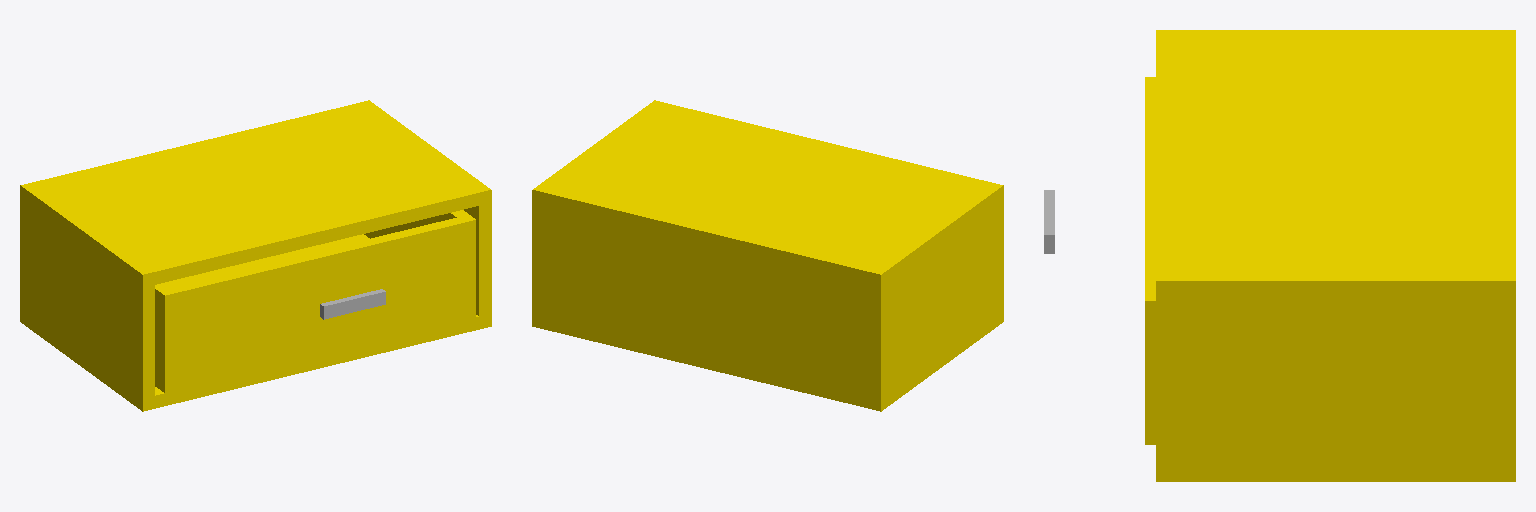
URDF robot description (drawer):
<?xml version="1.0" ?>
<!-- =================================================================================== -->
<!-- |    This document was autogenerated by xacro from drawer_xacro.xacro             | -->
<!-- |    EDITING THIS FILE BY HAND IS NOT RECOMMENDED                                 | -->
<!-- =================================================================================== -->
<robot name="drawer">
  <material name="yellow">
    <color rgba="1.0 0.9 0.0 1.0"/>
  </material>
  <link name="drawer1_in_drawer_base">
    <contact>
      <lateral_friction value="2.0"/>
    </contact>
    <inertial>
      <mass value="1"/>
      <inertia ixx="0.02086666666666667" ixy="0" ixz="0" iyy="0.007533333333333333" iyz="0" izz="0.007533333333333333"/>
    </inertial>
    <visual>
      <origin rpy="0.0 0.0 0.0" xyz="0.0 0.0 0.0"/>
      <geometry>
        <mesh filename="../../meshes/drawer/drawer1_in_drawer_base_visual.obj" scale="1 1 1"/>
      </geometry>
      <material name="yellow"/>
    </visual>
    <collision>
      <origin rpy="0.0 0.0 0.0" xyz="0.0 0.0 0.0"/>
      <geometry>
        <mesh filename="../../meshes/drawer/drawer1_in_drawer_base_visual.obj" scale="1 1 1"/>
      </geometry>
      <surface>
        <friction>
          <ode>
            <mu>0.5</mu>
          </ode>
        </friction>
      </surface>
    </collision>
  </link>
  <!--drawer_front-->
  <link name="drawer1_in_drawer_front">
    <inertial>
      <mass value="1"/>
      <inertia ixx="0.02224166666666667" ixy="0" ixz="0" iyy="0.0014416666666666668" iyz="0" izz="0.0014416666666666668"/>
    </inertial>
    <visual>
      <origin rpy="0.0 0.0 0.0" xyz="0.0 0.0 0.0"/>
      <geometry>
        <mesh filename="../../meshes/drawer/drawer1_in_drawer_front_visual.obj" scale="1 1 1"/>
      </geometry>
      <material name="yellow"/>
    </visual>
    <collision>
      <origin rpy="0.0 0.0 0.0" xyz="0.0 0.0 0.0"/>
      <geometry>
        <mesh filename="../../meshes/drawer/drawer1_in_drawer_front_visual.obj" scale="1 1 1"/>
      </geometry>
    </collision>
  </link>
  <joint name="drawer1_in_front2base" type="fixed">
    <origin rpy="0.0 0.0 0.0" xyz="0.13999999999999999 0.075 0.0"/>
    <parent link="drawer1_in_drawer_base"/>
    <child link="drawer1_in_drawer_front"/>
  </joint>
  <!--drawer_back-->
  <link name="drawer1_in_drawer_back">
    <inertial>
      <mass value="1"/>
      <inertia ixx="0.02224166666666667" ixy="0" ixz="0" iyy="0.0014416666666666668" iyz="0" izz="0.0014416666666666668"/>
    </inertial>
    <visual>
      <origin rpy="0.0 0.0 0.0" xyz="0.0 0.0 0.0"/>
      <geometry>
        <mesh filename="../../meshes/drawer/drawer1_in_drawer_back_visual.obj" scale="1 1 1"/>
      </geometry>
      <material name="yellow"/>
    </visual>
    <collision>
      <origin rpy="0.0 0.0 0.0" xyz="0.0 0.0 0.0"/>
      <geometry>
        <mesh filename="../../meshes/drawer/drawer1_in_drawer_back_visual.obj" scale="1 1 1"/>
      </geometry>
    </collision>
  </link>
  <joint name="drawer1_in_back2base" type="fixed">
    <origin rpy="0.0 0.0 0.0" xyz="-0.13999999999999999 0.075 0.0"/>
    <parent link="drawer1_in_drawer_base"/>
    <child link="drawer1_in_drawer_back"/>
  </joint>
  <!--drawer_left-->
  <link name="drawer1_in_drawer_left">
    <inertial>
      <mass value="1"/>
      <inertia ixx="0.0014416666666666668" ixy="0" ixz="0" iyy="0.007041666666666667" iyz="0" izz="0.007041666666666667"/>
    </inertial>
    <visual>
      <origin rpy="0.0 0.0 0.0" xyz="0.0 0.0 0.0"/>
      <geometry>
        <mesh filename="../../meshes/drawer/drawer1_in_drawer_left_visual.obj" scale="1 1 1"/>
      </geometry>
      <material name="yellow"/>
    </visual>
    <collision>
      <origin rpy="0.0 0.0 0.0" xyz="0.0 0.0 0.0"/>
      <geometry>
        <mesh filename="../../meshes/drawer/drawer1_in_drawer_left_visual.obj" scale="1 1 1"/>
      </geometry>
    </collision>
  </link>
  <joint name="drawer1_in_left2base" type="fixed">
    <origin rpy="0.0 0.0 0.0" xyz="0.0 0.075 -0.24"/>
    <parent link="drawer1_in_drawer_base"/>
    <child link="drawer1_in_drawer_left"/>
  </joint>
  <!--drawer_right-->
  <link name="drawer1_in_drawer_right">
    <inertial>
      <mass value="1"/>
      <inertia ixx="0.0014416666666666668" ixy="0" ixz="0" iyy="0.007041666666666667" iyz="0" izz="0.007041666666666667"/>
    </inertial>
    <visual>
      <origin rpy="0.0 0.0 0.0" xyz="0.0 0.0 0.0"/>
      <geometry>
        <mesh filename="../../meshes/drawer/drawer1_in_drawer_right_visual.obj" scale="1 1 1"/>
      </geometry>
      <material name="yellow"/>
    </visual>
    <collision>
      <origin rpy="0.0 0.0 0.0" xyz="0.0 0.0 0.0"/>
      <geometry>
        <mesh filename="../../meshes/drawer/drawer1_in_drawer_right_visual.obj" scale="1 1 1"/>
      </geometry>
    </collision>
  </link>
  <joint name="drawer1_in_right2base" type="fixed">
    <origin rpy="0.0 0.0 0.0" xyz="0.0 0.075 0.24"/>
    <parent link="drawer1_in_drawer_base"/>
    <child link="drawer1_in_drawer_right"/>
  </joint>
  <link name="drawer1_out_drawer_base">
    <inertial>
      <mass value="10"/>
      <inertia ixx="0.2616666666666667" ixy="0" ixz="0" iyy="0.03708333333333332" iyz="0" izz="0.03708333333333332"/>
    </inertial>
    <visual>
      <origin rpy="0.0 0.0 0.0" xyz="0.0 0.0 0.0"/>
      <geometry>
        <mesh filename="../../meshes/drawer/drawer1_out_drawer_base_visual.obj" scale="1 1 1"/>
      </geometry>
      <material name="yellow"/>
    </visual>
    <collision>
      <origin rpy="0.0 0.0 0.0" xyz="0.0 0.0 0.0"/>
      <geometry>
        <mesh filename="../../meshes/drawer/drawer1_out_drawer_base_visual.obj" scale="1 1 1"/>
      </geometry>
      <surface>
        <friction>
          <ode>
            <mu>0.5</mu>
          </ode>
        </friction>
      </surface>
    </collision>
  </link>
  <!--drawer_front-->
  <link name="drawer1_out_drawer_front">
    <inertial>
      <mass value="10"/>
      <inertia ixx="0.3466666666666667" ixy="0" ixz="0" iyy="0.08566666666666663" iyz="0" izz="0.08566666666666663"/>
    </inertial>
    <visual>
      <origin rpy="0.0 0.0 0.0" xyz="0.0 0.0 0.0"/>
      <geometry>
        <mesh filename="../../meshes/drawer/drawer1_out_drawer_front_visual.obj" scale="1 1 1"/>
      </geometry>
      <material name="yellow"/>
    </visual>
    <collision>
      <origin rpy="0.0 0.0 0.0" xyz="0.0 0.0 0.0"/>
      <geometry>
        <mesh filename="../../meshes/drawer/drawer1_out_drawer_front_visual.obj" scale="1 1 1"/>
      </geometry>
    </collision>
  </link>
  <joint name="drawer1_out_front2base" type="fixed">
    <origin rpy="0.0 0.0 0.0" xyz="0.095 0.16999999999999998 0.0"/>
    <parent link="drawer1_out_drawer_base"/>
    <child link="drawer1_out_drawer_front"/>
  </joint>
  <!--drawer_back-->
  <link name="drawer1_out_drawer_back">
    <inertial>
      <mass value="10"/>
      <inertia ixx="0.3466666666666667" ixy="0" ixz="0" iyy="0.08566666666666663" iyz="0" izz="0.08566666666666663"/>
    </inertial>
    <visual>
      <origin rpy="0.0 0.0 0.0" xyz="0.0 0.0 0.0"/>
      <geometry>
        <mesh filename="../../meshes/drawer/drawer1_out_drawer_back_visual.obj" scale="1 1 1"/>
      </geometry>
      <material name="yellow"/>
    </visual>
    <collision>
      <origin rpy="0.0 0.0 0.0" xyz="0.0 0.0 0.0"/>
      <geometry>
        <mesh filename="../../meshes/drawer/drawer1_out_drawer_back_visual.obj" scale="1 1 1"/>
      </geometry>
    </collision>
  </link>
  <joint name="drawer1_out_back2base" type="fixed">
    <origin rpy="0.0 0.0 0.0" xyz="-0.095 0.16999999999999998 0.0"/>
    <parent link="drawer1_out_drawer_base"/>
    <child link="drawer1_out_drawer_back"/>
  </joint>
  <!--drawer_left-->
  <link name="drawer1_out_drawer_left">
    <inertial>
      <mass value="10"/>
      <inertia ixx="0.08566666666666663" ixy="0" ixz="0" iyy="0.10941666666666665" iyz="0" izz="0.10941666666666665"/>
    </inertial>
    <visual>
      <origin rpy="0.0 0.0 0.0" xyz="0.0 0.0 0.0"/>
      <geometry>
        <mesh filename="../../meshes/drawer/drawer1_out_drawer_left_visual.obj" scale="1 1 1"/>
      </geometry>
      <material name="yellow"/>
    </visual>
    <collision>
      <origin rpy="0.0 0.0 0.0" xyz="0.0 0.0 0.0"/>
      <geometry>
        <mesh filename="../../meshes/drawer/drawer1_out_drawer_left_visual.obj" scale="1 1 1"/>
      </geometry>
    </collision>
  </link>
  <joint name="drawer1_out_left2base" type="fixed">
    <origin rpy="0.0 0.0 0.0" xyz="0.0 0.16999999999999998 -0.27"/>
    <parent link="drawer1_out_drawer_base"/>
    <child link="drawer1_out_drawer_left"/>
  </joint>
  <!--drawer_right-->
  <link name="drawer1_out_drawer_right">
    <inertial>
      <mass value="10"/>
      <inertia ixx="0.08566666666666663" ixy="0" ixz="0" iyy="0.10941666666666665" iyz="0" izz="0.10941666666666665"/>
    </inertial>
    <visual>
      <origin rpy="0.0 0.0 0.0" xyz="0.0 0.0 0.0"/>
      <geometry>
        <mesh filename="../../meshes/drawer/drawer1_out_drawer_right_visual.obj" scale="1 1 1"/>
      </geometry>
      <material name="yellow"/>
    </visual>
    <collision>
      <origin rpy="0.0 0.0 0.0" xyz="0.0 0.0 0.0"/>
      <geometry>
        <mesh filename="../../meshes/drawer/drawer1_out_drawer_right_visual.obj" scale="1 1 1"/>
      </geometry>
    </collision>
  </link>
  <joint name="drawer1_out_right2base" type="fixed">
    <origin rpy="0.0 0.0 0.0" xyz="0.0 0.16999999999999998 0.27"/>
    <parent link="drawer1_out_drawer_base"/>
    <child link="drawer1_out_drawer_right"/>
  </joint>
  <joint name="drawer1_in2out" type="prismatic">
    <origin rpy="0.0 0.0 1.5707963267948966" xyz="0.06999999999999999 0.19 0.0"/>
    <parent link="drawer1_out_drawer_base"/>
    <child link="drawer1_in_drawer_base"/>
    <axis xyz="1 0 0"/>
    <limit effort="0.0" lower="0.0" upper="0.26" velocity="0.0"/>
    <dynamics damping="10.0"/>
  </joint>
  <link name="drawer1_handle">
    <visual>
      <geometry>
        <box size="0.1 0.01 0.02"/>
      </geometry>
      <origin rpy="0 0 0" xyz="0 0 0"/>
      <material name="silver">
        <color rgba="0.75 0.75 0.75 1.0"/>
      </material>
    </visual>
    <collision>
      <geometry>
        <box size="0.1 0.01 0.02"/>
      </geometry>
      <origin rpy="0 0 0" xyz="0 0 0"/>
    </collision>
    <inertial>
      <mass value="0.5"/>
      <inertia ixx="0.00043333333333333337" ixy="0" ixz="0" iyy="2.0833333333333333e-05" iyz="0" izz="2.0833333333333333e-05"/>
    </inertial>
  </link>
  <!-- 把手与抽屉前板的连接 -->
  <joint name="drawer1_handle_joint" type="fixed">
    <parent link="drawer1_in_drawer_front"/>
    <child link="drawer1_handle"/>
    <origin rpy="1.5707963267948966 1.5707963267948966 0" xyz="0.1 0.03 0"/>
  </joint>
  <link name="virtual__drawer_link"/>
  <joint name="drawer12world" type="fixed">
    <origin rpy="0.0 1.5707963267948966 3.141592653589793" xyz="0.0 0.0 0.0"/>
    <parent link="virtual__drawer_link"/>
    <child link="drawer1_out_drawer_base"/>
    <axis xyz="0.0 0.0 0.0"/>
    <limit effort="0.0" lower="0.0" upper="0.0" velocity="0.0"/>
  </joint>
  <!-- <link name="world"/>
    <joint name="virtual__drawer_link2world" type="fixed">
        <origin rpy="0.0 0.0 0.0" xyz="${x_position} ${y_position} ${z_position}"/>
        <parent link="world"/>
        <child link="virtual__drawer_link"/>
    </joint> -->
</robot>

--- What the picture shows (computed from the rendered views, not written in the file) ---
3 views of the same robot in one strip: view 1: azimuth 30°, elevation 25°; view 2: azimuth 150°, elevation 25°; view 3: azimuth 270°, elevation 25° (orthographic).
Robot: drawer — 12 links, 11 joints (1 prismatic, 10 fixed); root link virtual__drawer_link; default pose: all joints at 0.
Visible links, largest first — view 1: drawer1_out_drawer_back, drawer1_in_drawer_front, drawer1_out_drawer_right, drawer1_out_drawer_front, drawer1_in_drawer_base, drawer1_out_drawer_base, drawer1_out_drawer_left, drawer1_handle, drawer1_in_drawer_left; view 2: drawer1_out_drawer_base, drawer1_out_drawer_back, drawer1_out_drawer_right, drawer1_out_drawer_front; view 3: drawer1_out_drawer_back, drawer1_out_drawer_left, drawer1_out_drawer_base, drawer1_out_drawer_front, drawer1_in_drawer_front, drawer1_handle.
Boxes of the visible links, left/top/right/bottom form: drawer1_out_drawer_back: left=28, top=106, right=491, bottom=287; drawer1_in_drawer_front: left=158, top=215, right=475, bottom=379; drawer1_out_drawer_right: left=28, top=204, right=154, bottom=398; drawer1_out_drawer_front: left=28, top=314, right=491, bottom=411; drawer1_in_drawer_base: left=155, top=234, right=475, bottom=392; drawer1_out_drawer_base: left=20, top=100, right=375, bottom=326; drawer1_out_drawer_left: left=464, top=203, right=491, bottom=316; drawer1_handle: left=320, top=289, right=385, bottom=319; drawer1_in_drawer_left: left=364, top=210, right=468, bottom=238; drawer1_out_drawer_base: left=532, top=185, right=887, bottom=411; drawer1_out_drawer_back: left=540, top=100, right=1003, bottom=282; drawer1_out_drawer_right: left=888, top=198, right=1003, bottom=392; drawer1_out_drawer_front: left=888, top=309, right=1003, bottom=405; drawer1_out_drawer_back: left=1156, top=30, right=1493, bottom=299; drawer1_out_drawer_left: left=1156, top=300, right=1493, bottom=462; drawer1_out_drawer_base: left=1494, top=30, right=1515, bottom=481; drawer1_out_drawer_front: left=1156, top=463, right=1493, bottom=481; drawer1_in_drawer_front: left=1145, top=77, right=1155, bottom=424; drawer1_handle: left=1044, top=190, right=1054, bottom=253.
Bounding box of the posed robot: 0.56 × 0.445 × 0.21 m (x, y, z).
Meshes: 10 distinct files referenced, 10 mesh visuals loaded (10 OBJ).
